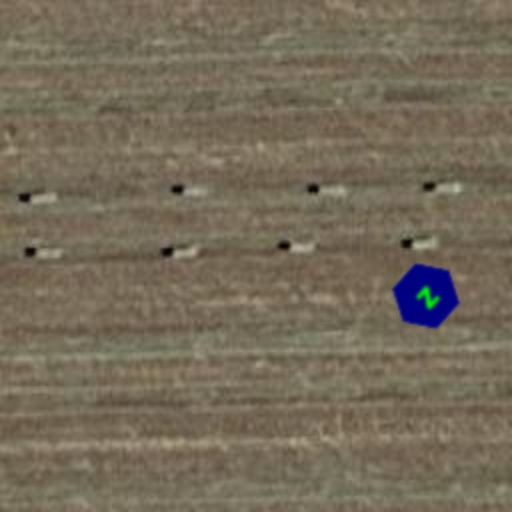hexagon: (376, 246, 476, 346)
